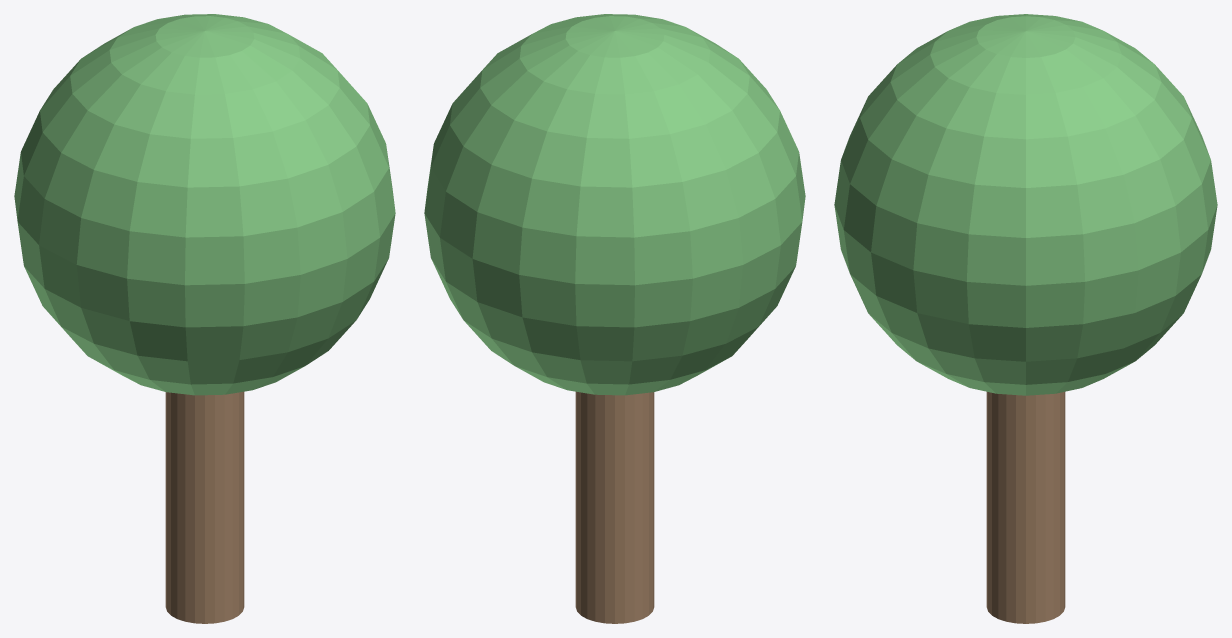
File: tree.glb
3 views of the same model, side by side, from view 1: azimuth 30°, elevation 25°; view 2: azimuth 150°, elevation 25°; view 3: azimuth 270°, elevation 25° (orthographic).
Parts seen in each view (by area): view 1: tree_leaves, tree_trunk; view 2: tree_leaves, tree_trunk; view 3: tree_leaves, tree_trunk.
Boxes of the visible parts, x1,y1,x2,y2 form: tree_leaves: (14,14,395,395); tree_trunk: (165,391,244,623); tree_leaves: (424,14,805,395); tree_trunk: (575,391,654,623); tree_leaves: (834,14,1217,395); tree_trunk: (986,392,1065,623).
Bounding box in the file's own units: 4.4 × 7.3 × 4.4.
